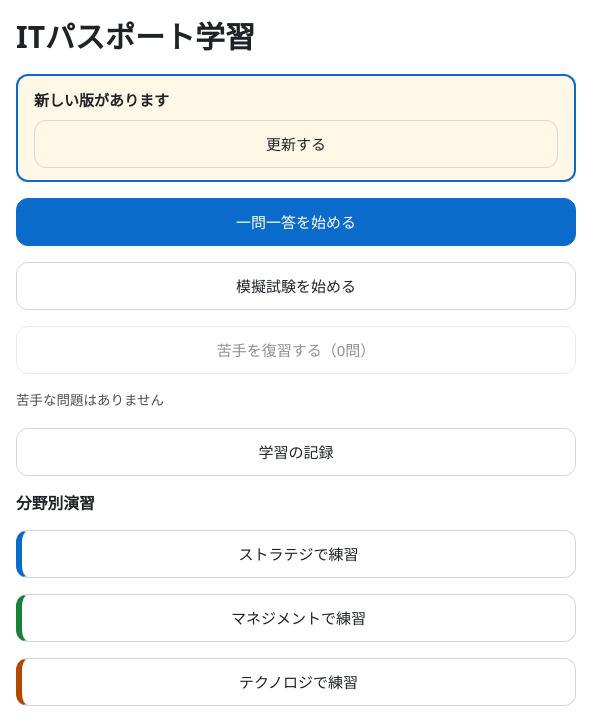
Test: 新しい版の更新の案内 › 模擬試験の解答中は表示しない
Step 1. Click the button "模擬試験を始める" → [296, 286], box top-left (16, 262), bottom-right (576, 310)
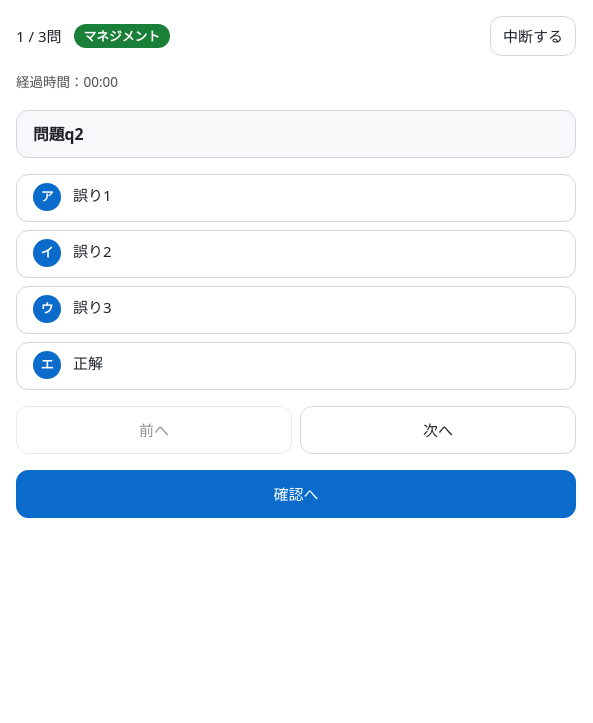
Expected: the text "新しい版があります" is gone
